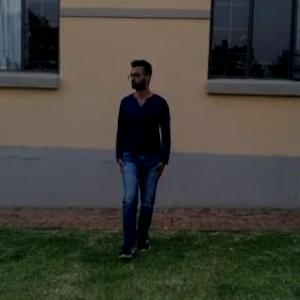follow: (105, 47, 177, 271)
